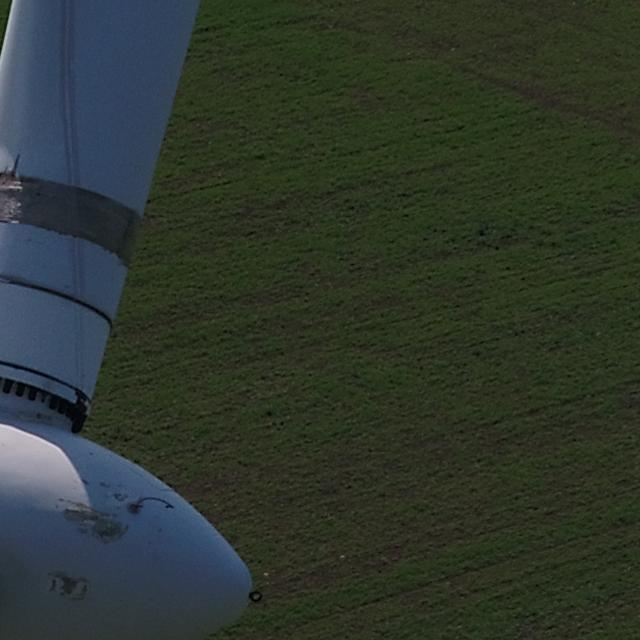damage: (61, 507, 130, 546), (57, 575, 82, 597), (77, 475, 90, 488), (97, 478, 108, 487)
